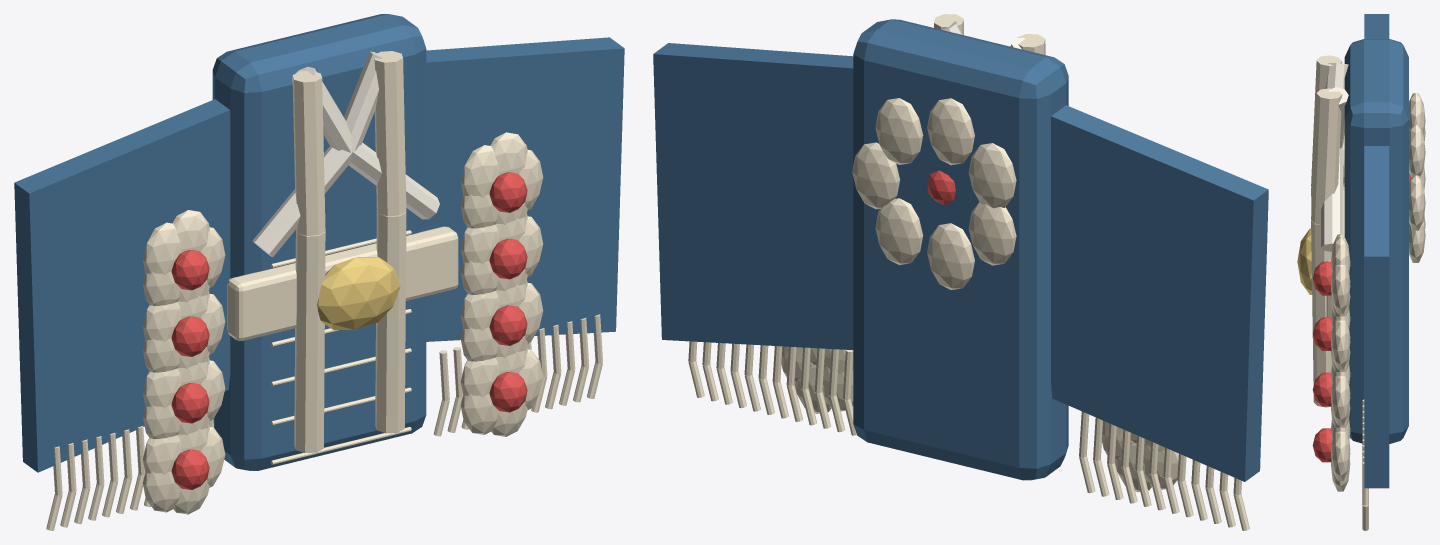
The model's file is costume_happi.glb.
3 renders of one model, left to right at view 1: azimuth 30°, elevation 25°; view 2: azimuth 150°, elevation 25°; view 3: azimuth 270°, elevation 25°, orthographic. The views are drawn at different scales.
Parts seen in each view (by area): view 1: Traditional matsuri happi coat left ample sleeve, Traditional matsuri happi coat long body, Traditional matsuri happi coat right ample sleeve, Traditional matsuri happi coat embroidered chrysanthemum pet (×28), Traditional matsuri happi coat embroidered chrysanthemum cen (×8), Traditional matsuri happi coat decorative sash, Happi vertically woven white collar_01, Happi vertically woven white collar_01.001, Happi vertically woven white collar_00, Traditional matsuri happi coat central ornate knot, Happi vertically woven white collar_00.001, Traditional matsuri happi coat crossed ivory collars_01.001 (+3 smaller); view 2: Traditional matsuri happi coat long body, Traditional matsuri happi coat left ample sleeve, Traditional matsuri happi coat right ample sleeve, Large rear happi crest petal.002, Large rear happi crest petal.005, Large rear happi crest petal.001, Large rear happi crest petal.006, Large rear happi crest petal.003, Large rear happi crest petal, Large rear happi crest petal.004, Large rear happi crest center; view 3: Traditional matsuri happi coat long body, Traditional matsuri happi coat right ample sleeve, Traditional matsuri happi coat embroidered chrysanthemum pet (×9), Happi vertically woven white collar_00.001, Traditional matsuri happi coat embroidered chrysanthemum cen (×4), Happi vertically woven white collar_01.001, Traditional matsuri happi coat crossed ivory collars_01, Large rear happi crest petal, Large rear happi crest petal.001, Happi vertically woven white collar_00, Traditional matsuri happi coat central ornate knot, Traditional matsuri happi coat left ample sleeve (+7 smaller).
Part boxes in pixels (x1=…): Traditional matsuri happi coat left ample sleeve: x1=14, y1=99, x2=230, y2=472; Traditional matsuri happi coat long body: x1=212, y1=14, x2=426, y2=470; Traditional matsuri happi coat right ample sleeve: x1=426, y1=37, x2=624, y2=341; Traditional matsuri happi coat embroidered chrysanthemum pet (×28): x1=142, y1=132, x2=543, y2=514; Traditional matsuri happi coat embroidered chrysanthemum cen (×8): x1=171, y1=172, x2=527, y2=489; Traditional matsuri happi coat decorative sash: x1=227, y1=226, x2=458, y2=340; Happi vertically woven white collar_01: x1=294, y1=230, x2=325, y2=453; Happi vertically woven white collar_01.001: x1=375, y1=210, x2=406, y2=433; Happi vertically woven white collar_00: x1=292, y1=71, x2=325, y2=235; Traditional matsuri happi coat central ornate knot: x1=317, y1=257, x2=400, y2=330; Happi vertically woven white collar_00.001: x1=374, y1=51, x2=406, y2=216; Traditional matsuri happi coat crossed ivory collars_01.001: x1=252, y1=146, x2=352, y2=257; Traditional matsuri happi coat long body: x1=853, y1=19, x2=1068, y2=480; Traditional matsuri happi coat left ample sleeve: x1=1051, y1=105, x2=1268, y2=481; Traditional matsuri happi coat right ample sleeve: x1=653, y1=43, x2=853, y2=349; Large rear happi crest petal.002: x1=927, y1=98, x2=974, y2=165; Large rear happi crest petal.005: x1=927, y1=223, x2=974, y2=289; Large rear happi crest petal.001: x1=875, y1=98, x2=923, y2=164; Large rear happi crest petal.006: x1=875, y1=198, x2=923, y2=265; Large rear happi crest petal.003: x1=968, y1=143, x2=1016, y2=208; Large rear happi crest petal: x1=852, y1=142, x2=899, y2=209; Large rear happi crest petal.004: x1=968, y1=202, x2=1016, y2=265; Large rear happi crest center: x1=927, y1=170, x2=955, y2=205; Traditional matsuri happi coat long body: x1=1344, y1=39, x2=1408, y2=443; Traditional matsuri happi coat right ample sleeve: x1=1364, y1=146, x2=1389, y2=488; Traditional matsuri happi coat embroidered chrysanthemum pet (×9): x1=1331, y1=237, x2=1350, y2=491; Happi vertically woven white collar_00.001: x1=1311, y1=88, x2=1342, y2=224; Traditional matsuri happi coat embroidered chrysanthemum cen (×4): x1=1312, y1=261, x2=1331, y2=462; Happi vertically woven white collar_01.001: x1=1311, y1=220, x2=1331, y2=407; Traditional matsuri happi coat crossed ivory collars_01: x1=1321, y1=146, x2=1343, y2=251; Large rear happi crest petal: x1=1409, y1=175, x2=1425, y2=230; Large rear happi crest petal.001: x1=1409, y1=124, x2=1425, y2=177; Happi vertically woven white collar_00: x1=1311, y1=55, x2=1342, y2=187; Traditional matsuri happi coat central ornate knot: x1=1297, y1=228, x2=1312, y2=294; Traditional matsuri happi coat left ample sleeve: x1=1364, y1=14, x2=1389, y2=38.
Size of the model in its own units: 1.95 by 1.32 by 0.4354.
